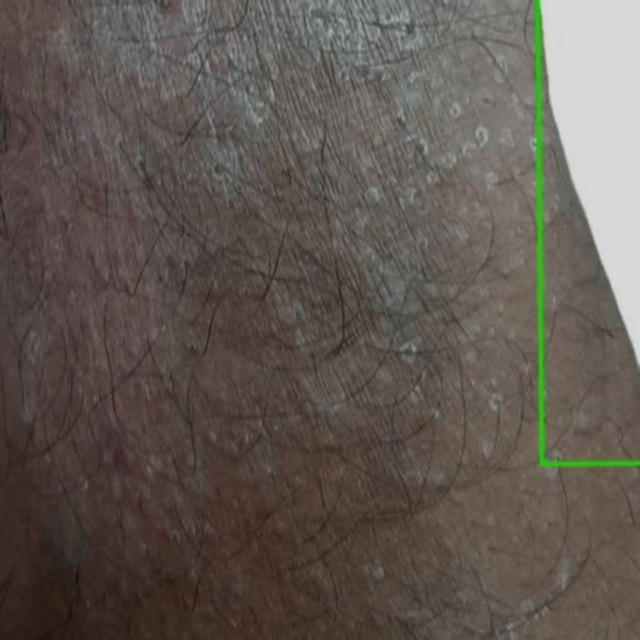Contact Dermatitis: (537, 0, 639, 464)
